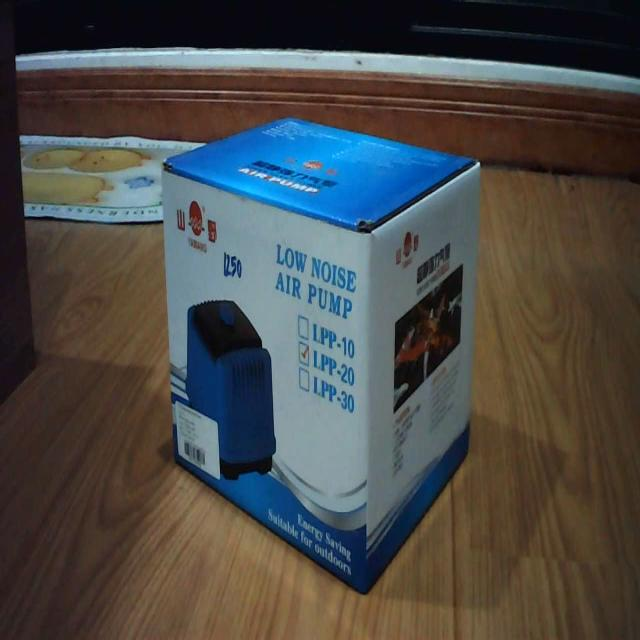YAMANO_LPP_20: (152, 83, 493, 593)
